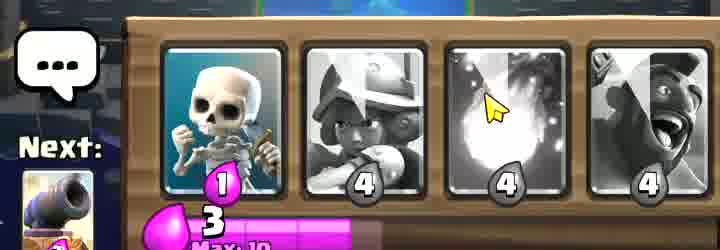cannon: (22, 171, 94, 250)
hog-rider: (586, 62, 680, 204)
